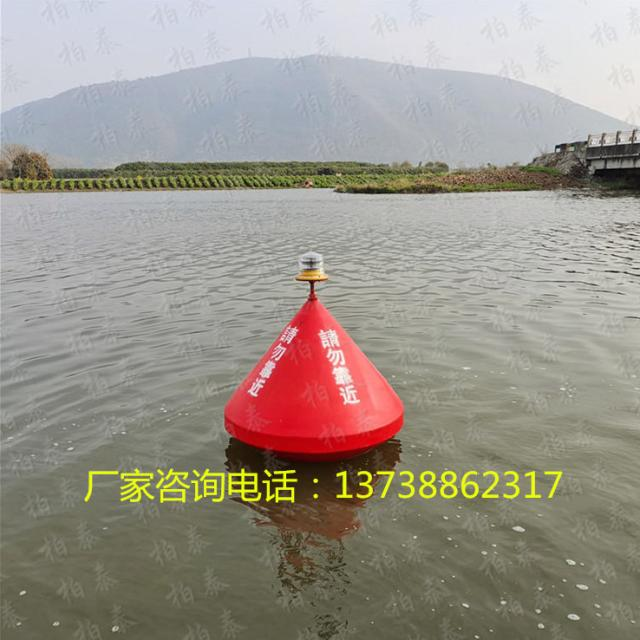buoy: (219, 250, 406, 452)
